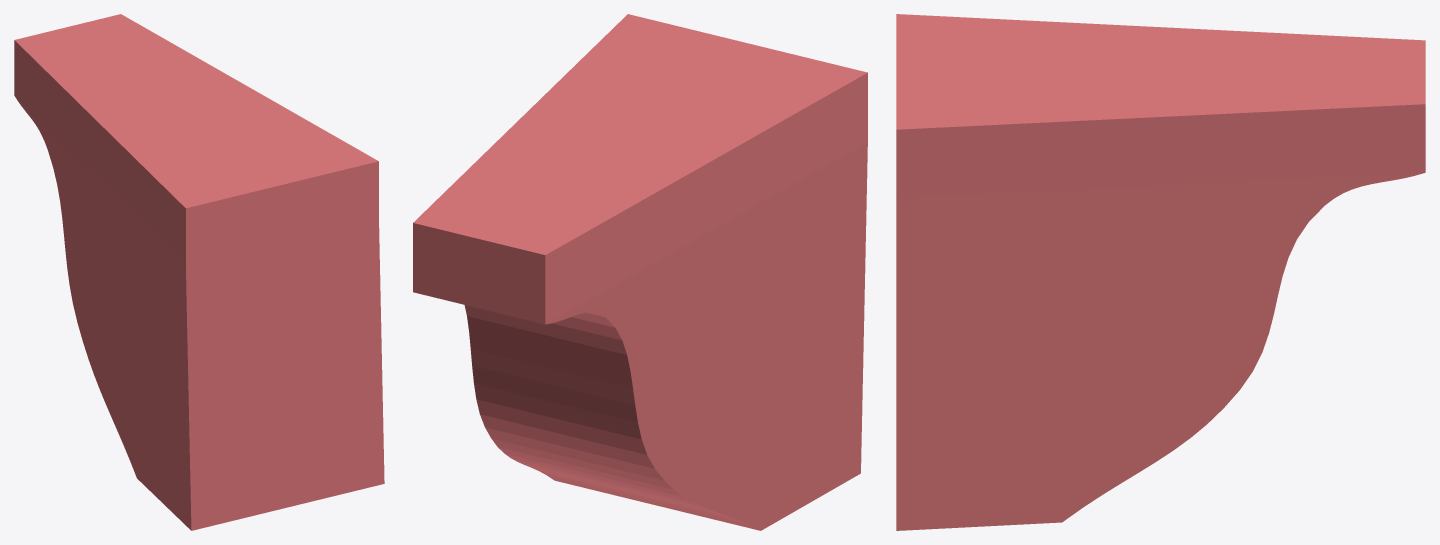
Rendered from 19-Support.fbx.
3 renders of one model, left to right at view 1: azimuth 30°, elevation 25°; view 2: azimuth 150°, elevation 25°; view 3: azimuth 270°, elevation 25°, orthographic. The views are drawn at different scales.
Visible parts, largest first — view 1: Support; view 2: Support; view 3: Support.
Part boxes in pixels (x1=…): Support: x1=14, y1=14, x2=384, y2=530; Support: x1=413, y1=14, x2=867, y2=530; Support: x1=896, y1=14, x2=1425, y2=530.
Size of the model in its own units: 31.02 by 48.32 by 58.24.
